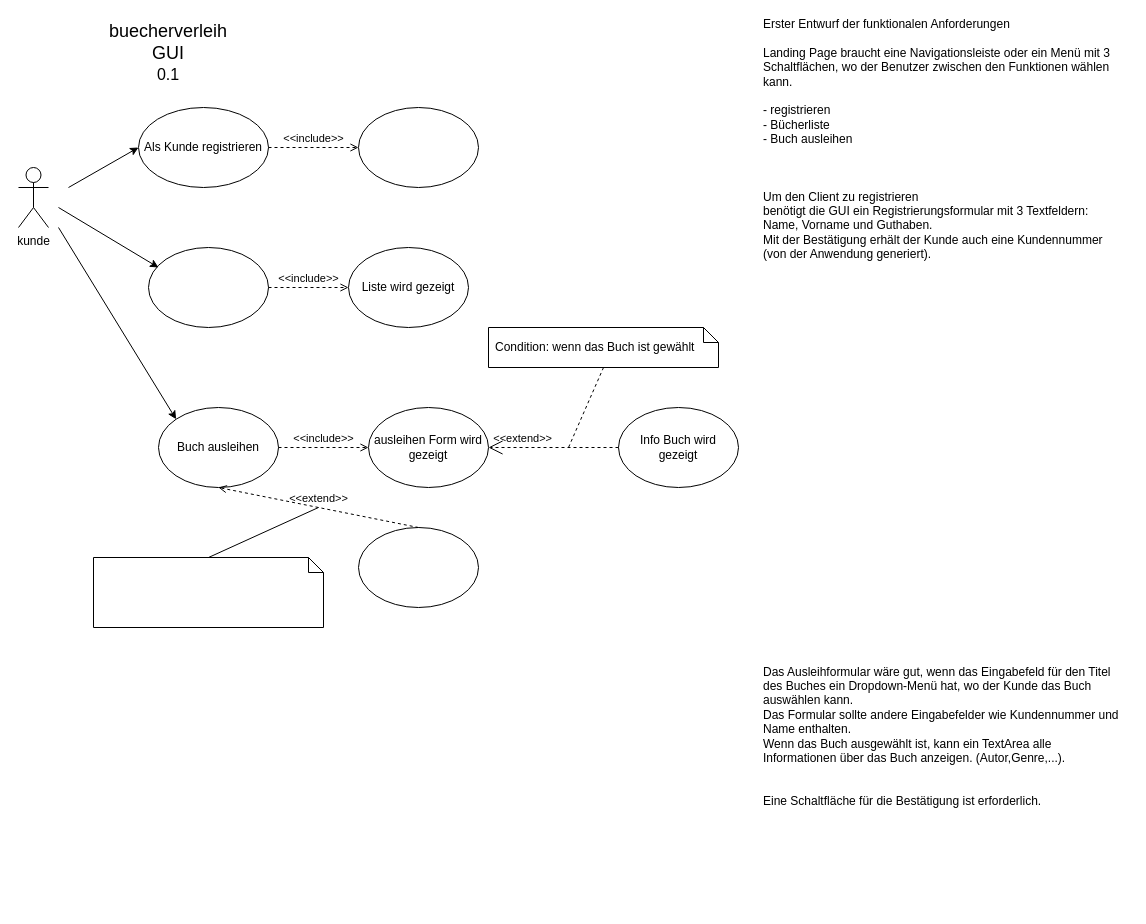
Some shapes in this 1146 by 924 pixel diagram are drawn without their labels. Here are the shapes that lost their labels. From the top down, the box of each, then its label:
(358, 106, 478, 188): Kundennummer und Bestätigung bekommen
(148, 246, 268, 328): Bücherliste ansehen
(358, 526, 478, 608): Bestätigung anzeigen
(92, 556, 324, 628): Condition: wenn das Formblatt ordnungsgemäß ausgefüllt ist.
